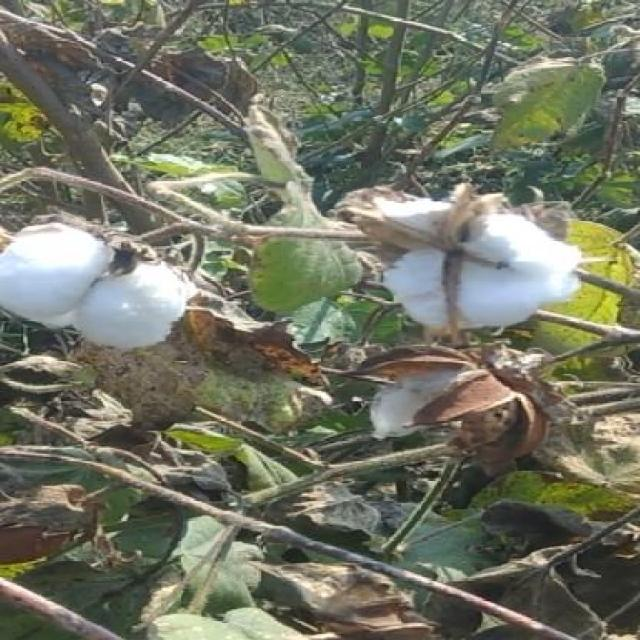cotton_ready: (333, 180, 582, 326), (1, 202, 201, 352)
